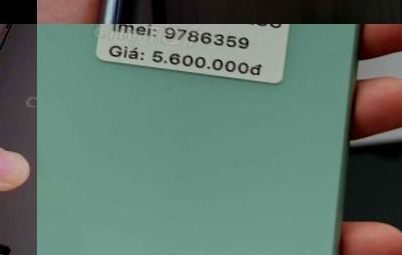scratch: (59, 0, 402, 24)
